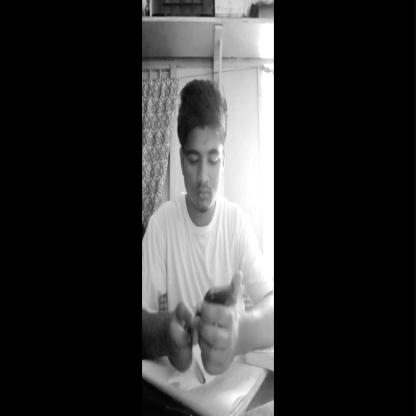Normal: (176, 80, 232, 216)
